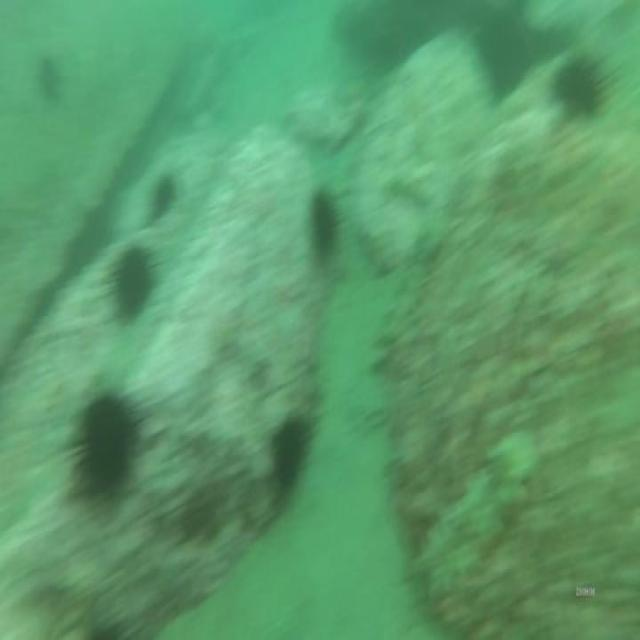echinus: (65, 386, 146, 502), (106, 242, 164, 327), (267, 403, 321, 493), (547, 49, 609, 120), (308, 180, 342, 261), (149, 172, 175, 221)
holothurian: (396, 430, 537, 605)
